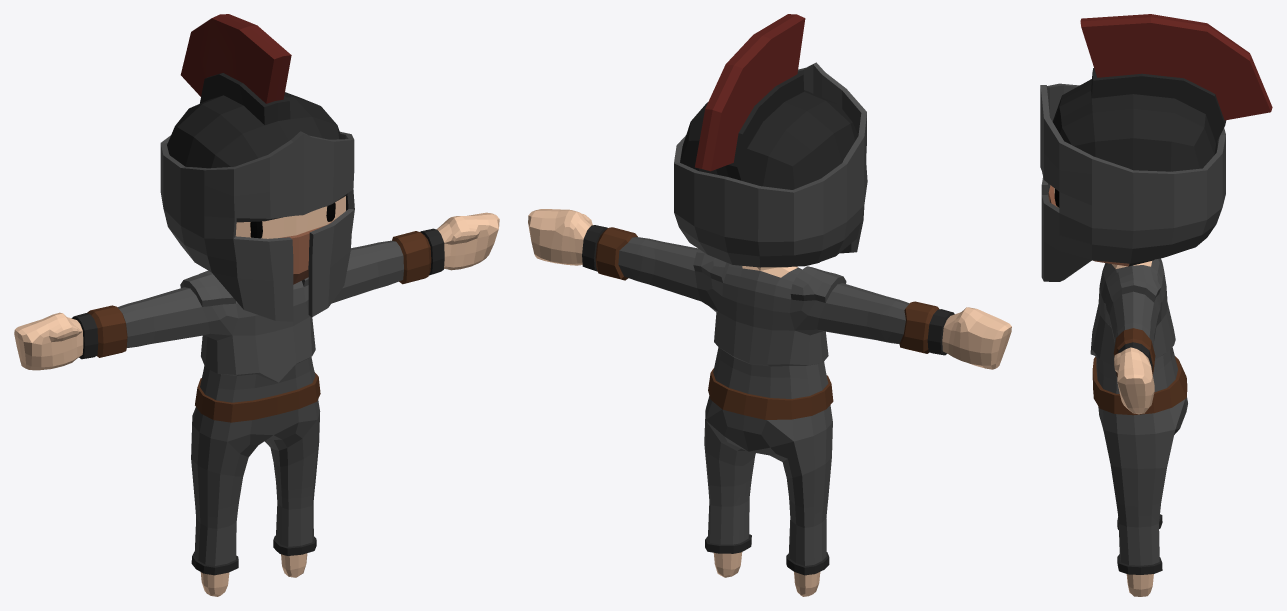
The model's file is KNIGHT.fbx.
3 views of the same model, side by side, from view 1: azimuth 30°, elevation 25°; view 2: azimuth 150°, elevation 25°; view 3: azimuth 270°, elevation 25° (orthographic).
Visible parts, largest first — view 1: Body.002; view 2: Body.002; view 3: Body.002.
Boxes of the visible parts, left/top/right/bottom form: Body.002: left=14, top=14, right=499, bottom=596; Body.002: left=528, top=14, right=1011, bottom=596; Body.002: left=1040, top=14, right=1272, bottom=596.
Size of the model in its own units: 324 by 359 by 135.
